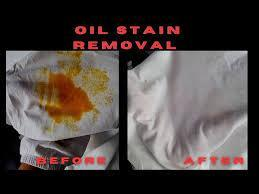mustard: (30, 67, 108, 131), (58, 53, 113, 105)
